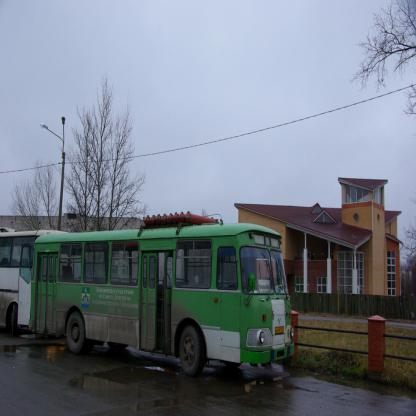Bus: (29, 214, 293, 376), (0, 228, 66, 338)
